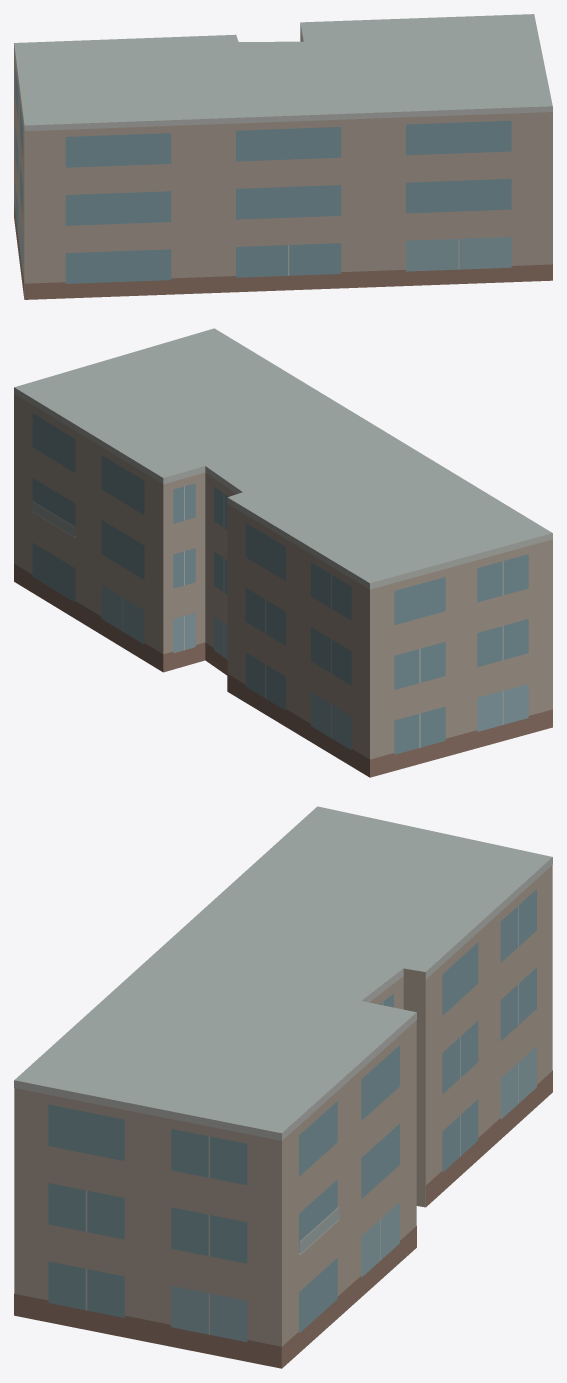
Rendered from survey-upis-32552248.glb.
3 views of the same model, one above another, from view 1: azimuth 30°, elevation 25°; view 2: azimuth 150°, elevation 25°; view 3: azimuth 270°, elevation 25° (orthographic). The views are drawn at different scales.
Parts seen in each view (by area): view 1: survey-upis-32552248.tmp; view 2: survey-upis-32552248.tmp; view 3: survey-upis-32552248.tmp.
Part boxes in pixels (x1,y1,x2,y2): survey-upis-32552248.tmp: (14,14,552,299); survey-upis-32552248.tmp: (14,328,552,777); survey-upis-32552248.tmp: (14,806,552,1368).
Size of the model in its own units: 22.37 by 7.5 by 15.57.
